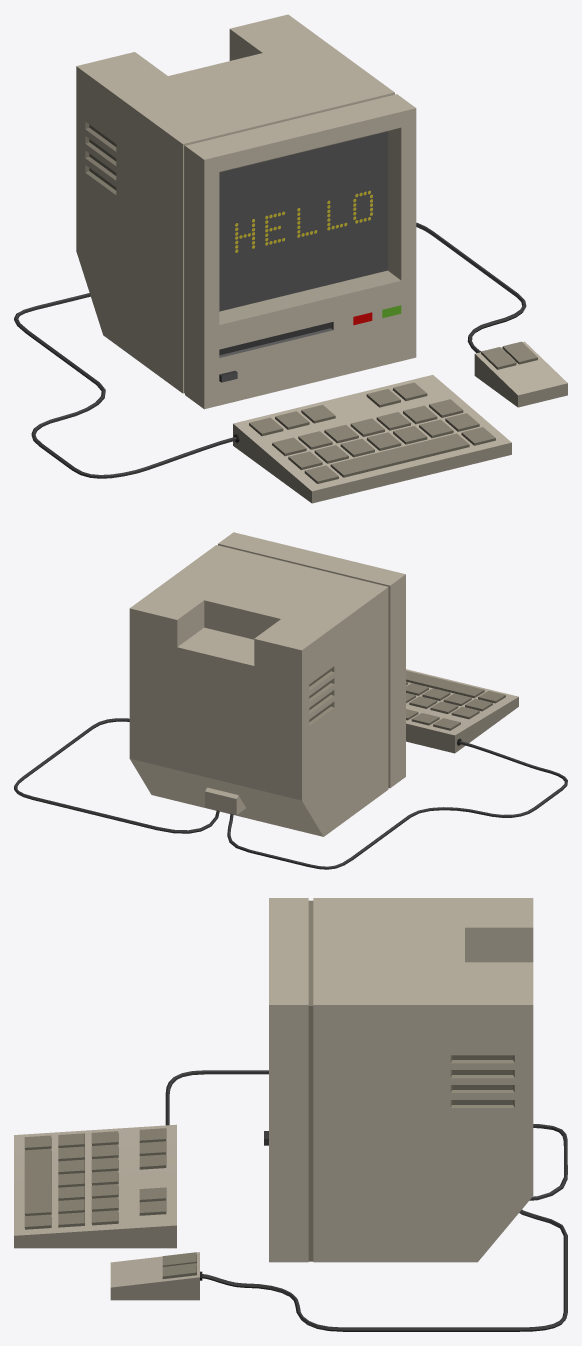
Rendered from computer.glb.
3 views of the same model, one above another, from view 1: azimuth 30°, elevation 25°; view 2: azimuth 150°, elevation 25°; view 3: azimuth 270°, elevation 25° (orthographic). The views are drawn at different scales.
Parts seen in each view (by area): view 1: monitor_0, keyboard.001_5, keyboard_1, mouse.001_6, cabel1_3, cabel2_4, mouse_2, monitor.001_8; view 2: monitor_0, keyboard_1, keyboard.001_5, cabel1_3, cabel2_4; view 3: monitor_0, keyboard.001_5, keyboard_1, mouse.001_6, cabel2_4, cabel1_3, mouse_2.
Part boxes in pixels (left/top/right/bottom): monitor_0: left=76, top=14, right=416, bottom=409; keyboard.001_5: left=233, top=375, right=511, bottom=503; keyboard_1: left=249, top=382, right=495, bottom=483; mouse.001_6: left=474, top=341, right=567, bottom=407; cabel1_3: left=14, top=293, right=236, bottom=478; cabel2_4: left=416, top=222, right=526, bottom=353; mouse_2: left=481, top=341, right=537, bottom=369; monitor.001_8: left=235, top=190, right=372, bottom=252; monitor_0: left=129, top=532, right=405, bottom=836; keyboard_1: left=406, top=670, right=505, bottom=730; keyboard.001_5: left=406, top=669, right=518, bottom=753; cabel1_3: left=227, top=741, right=567, bottom=869; cabel2_4: left=14, top=718, right=219, bottom=833; monitor_0: left=264, top=898, right=533, bottom=1262; keyboard.001_5: left=14, top=1124, right=176, bottom=1248; keyboard_1: left=24, top=1128, right=166, bottom=1229; mouse.001_6: left=110, top=1252, right=199, bottom=1300; cabel2_4: left=202, top=1209, right=567, bottom=1331; cabel1_3: left=165, top=1070, right=567, bottom=1200; mouse_2: left=162, top=1252, right=196, bottom=1278.
Size of the model in its own units: 3.03 by 1.41 by 2.74.
Materials: 1 (1 with a texture image).
